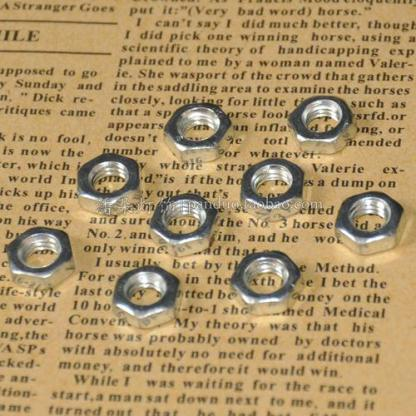FOD: (108, 262, 185, 332), (330, 188, 406, 256), (158, 98, 236, 164), (145, 192, 224, 255), (229, 249, 302, 314), (5, 224, 76, 289), (74, 152, 146, 216), (238, 156, 310, 220), (288, 93, 358, 154)
